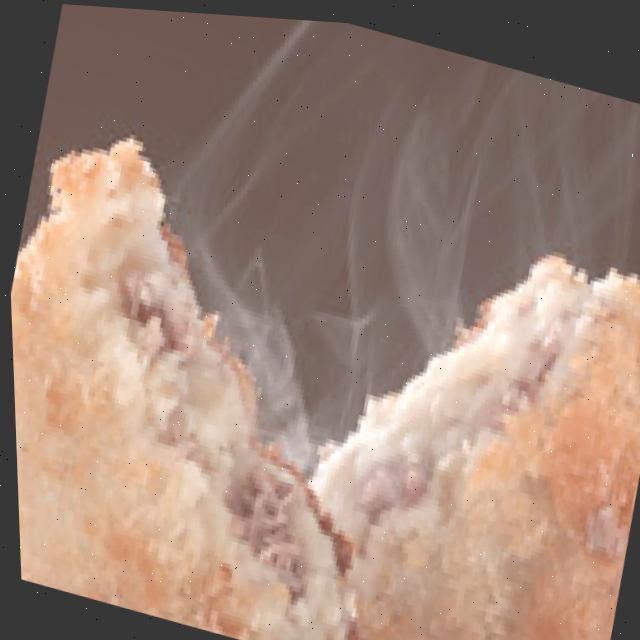炸货点心: (3, 92, 640, 640)
